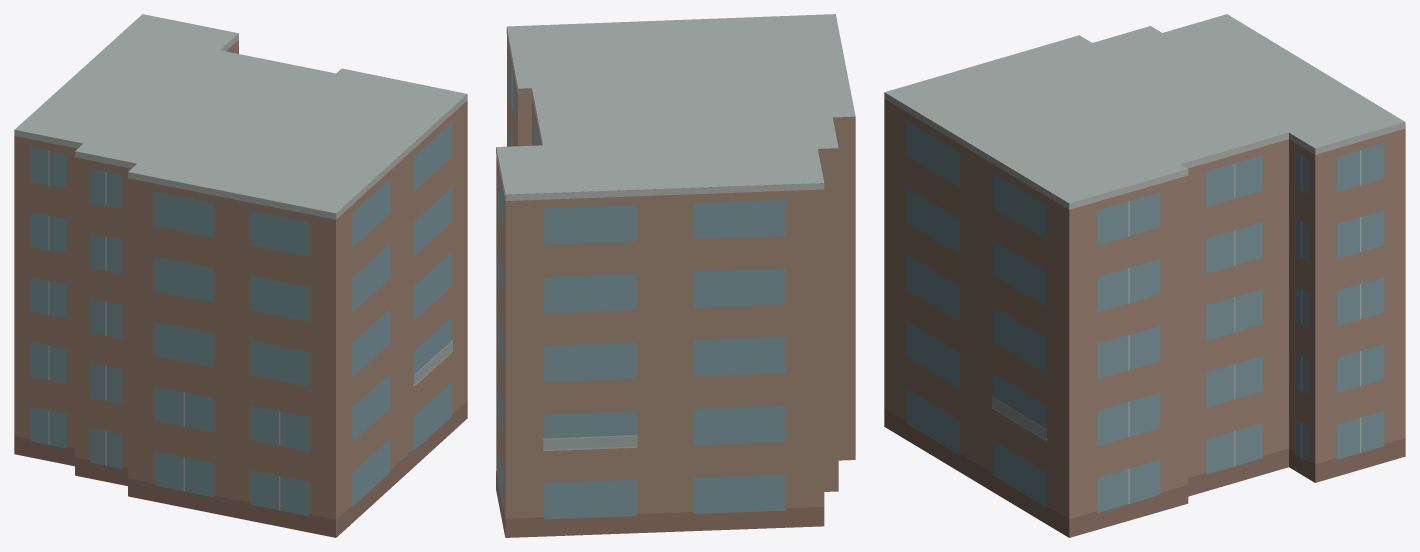
File: survey-upis-32738118.glb
3 renders of one model, left to right at view 1: azimuth 30°, elevation 25°; view 2: azimuth 150°, elevation 25°; view 3: azimuth 270°, elevation 25°, orthographic. The views are drawn at different scales.
Parts seen in each view (by area): view 1: survey-upis-32738118.tmp; view 2: survey-upis-32738118.tmp; view 3: survey-upis-32738118.tmp.
Boxes of the visible parts, x1=… form: survey-upis-32738118.tmp: x1=14, y1=14, x2=467, y2=537; survey-upis-32738118.tmp: x1=496, y1=14, x2=855, y2=537; survey-upis-32738118.tmp: x1=884, y1=14, x2=1405, y2=537.
Bounding box in the file's own units: 15.44 × 12.7 × 17.95.
